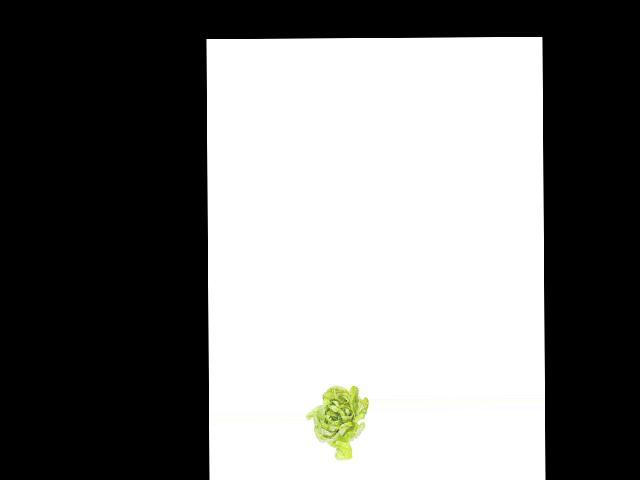lettuce: (305, 384, 367, 463)
